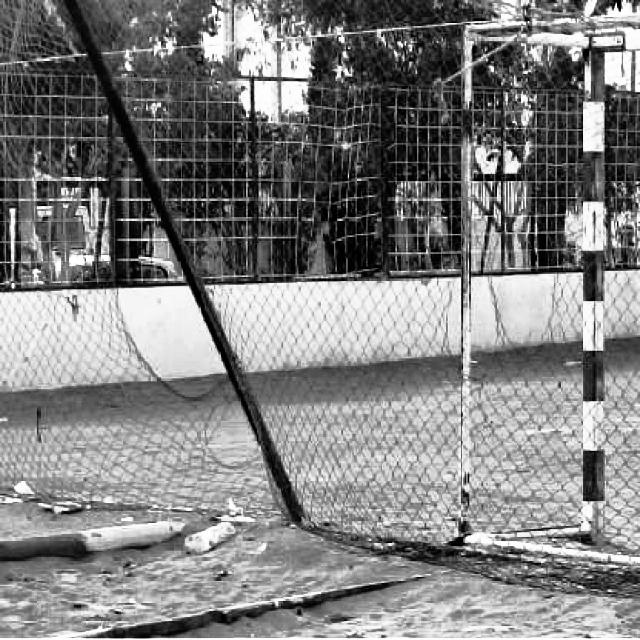anomaly-fence: (84, 214, 275, 492), (469, 170, 584, 400)
